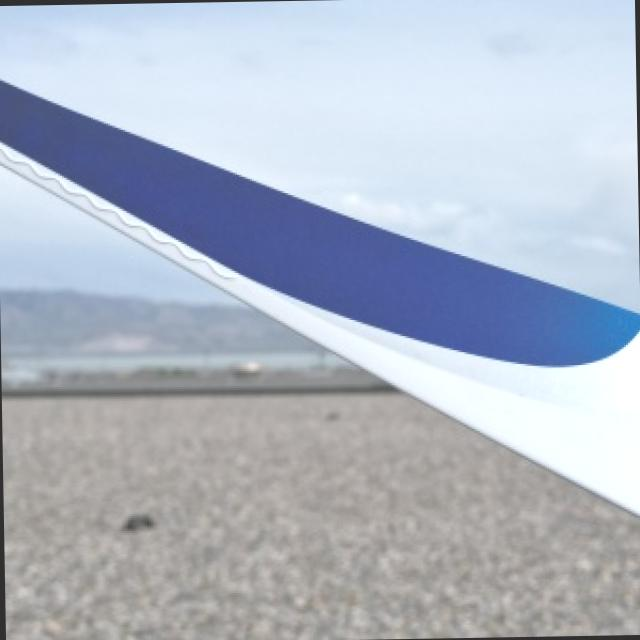healthy: (0, 14, 640, 511), (3, 389, 640, 640)
